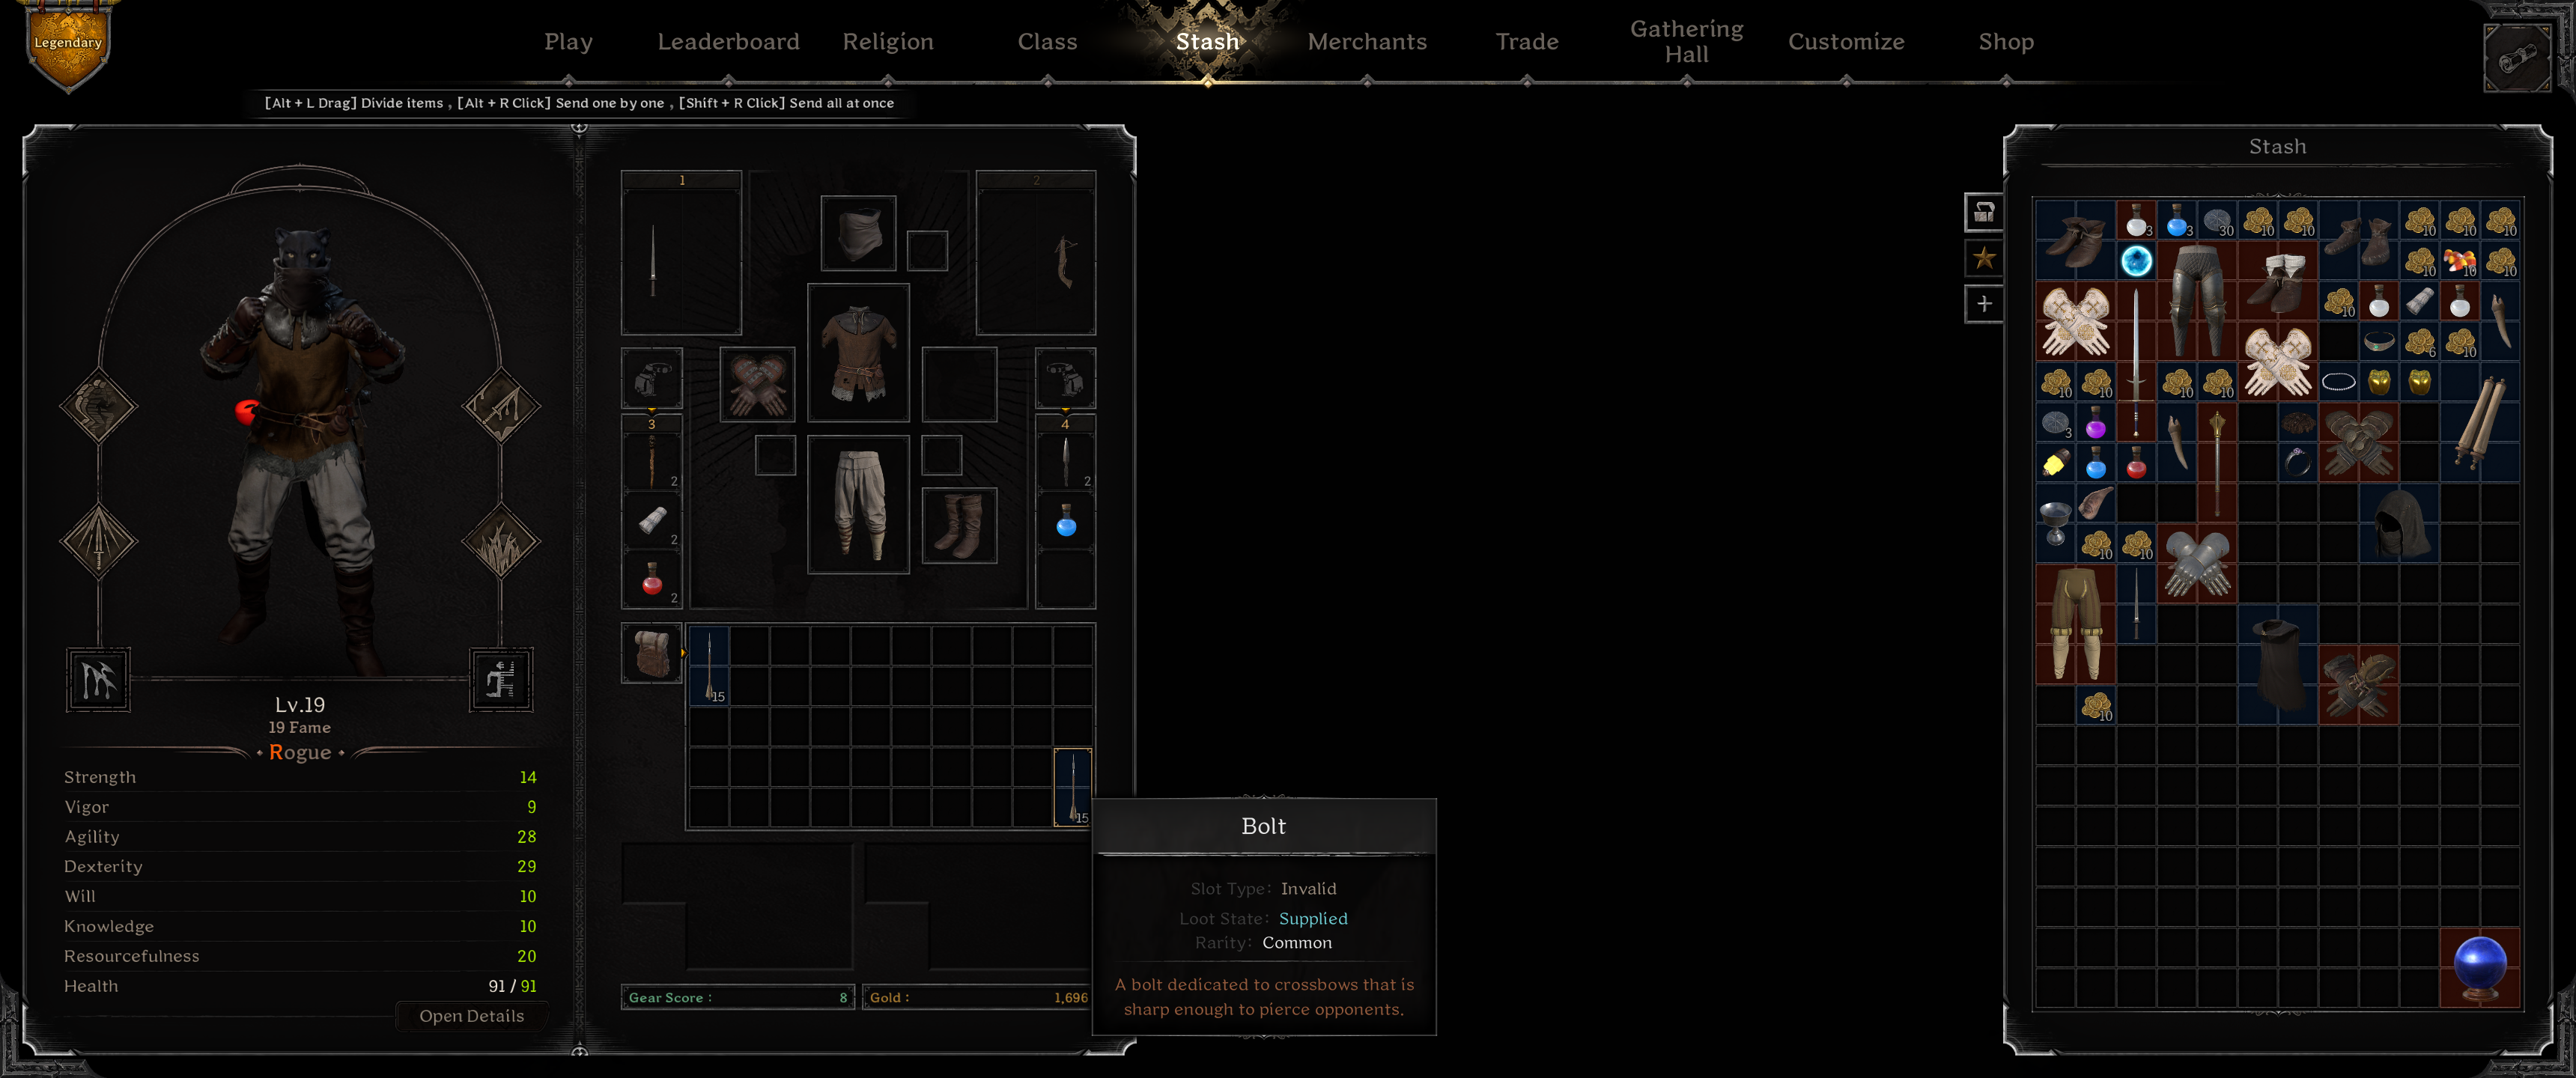Tooltip: (1091, 799, 1437, 1037)
